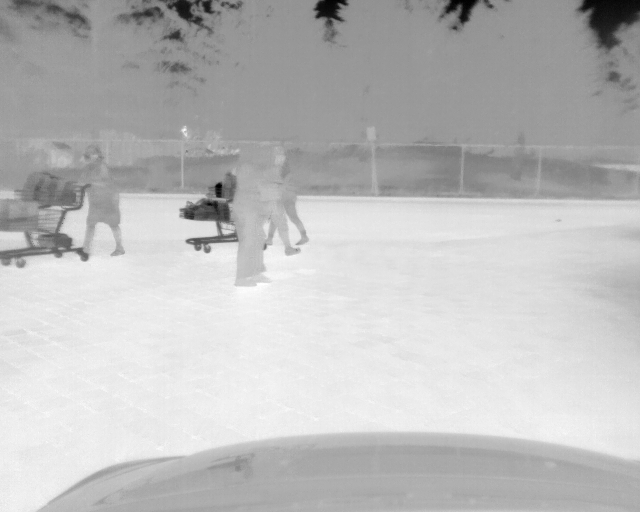people: (229, 143, 270, 289), (77, 144, 127, 260), (262, 144, 301, 256)
